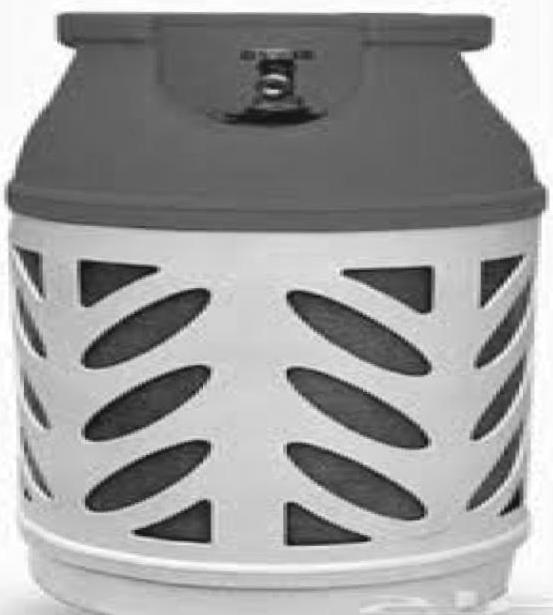cylinder: (1, 1, 553, 615)
